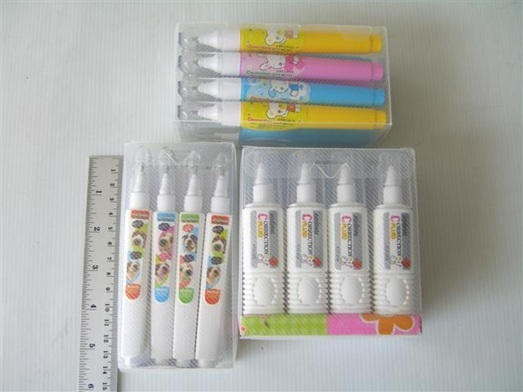Correction_fluid: (193, 149, 234, 367), (174, 73, 396, 110), (370, 155, 419, 320), (327, 151, 376, 316), (281, 151, 330, 316), (240, 152, 289, 317), (173, 51, 394, 87), (170, 21, 385, 58), (171, 149, 207, 367), (145, 149, 181, 367), (119, 149, 155, 367), (172, 98, 388, 134)
